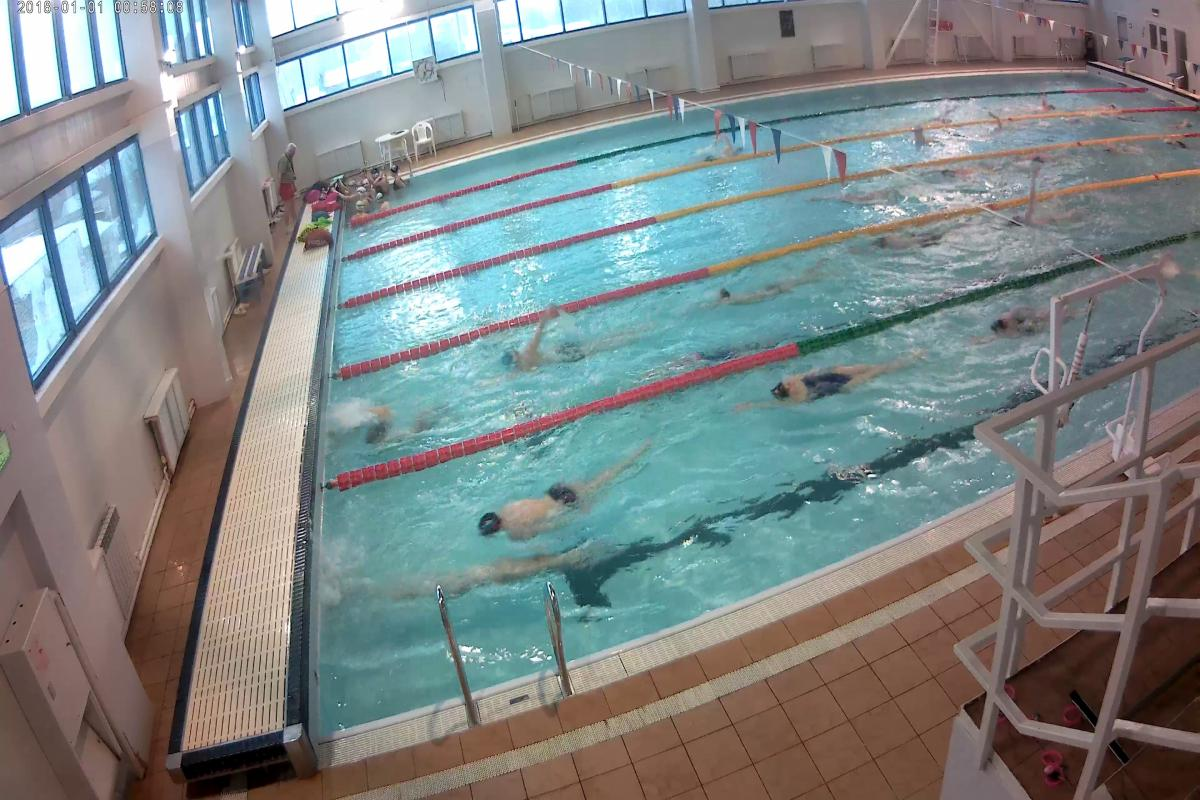swimmer: (381, 549, 589, 611), (469, 460, 636, 530), (746, 359, 904, 418), (707, 266, 838, 302), (489, 332, 640, 358), (875, 224, 966, 253), (992, 295, 1046, 335), (1016, 206, 1082, 234)
